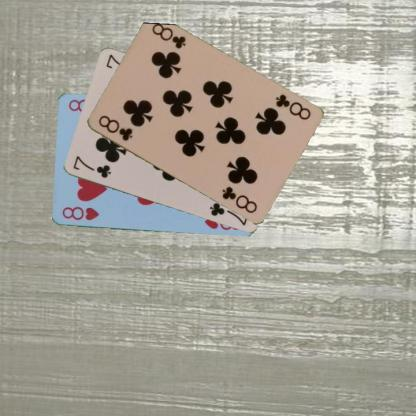7c: (70, 153, 112, 180)
8c: (95, 112, 134, 145), (272, 92, 312, 121)
8h: (59, 204, 100, 222)
